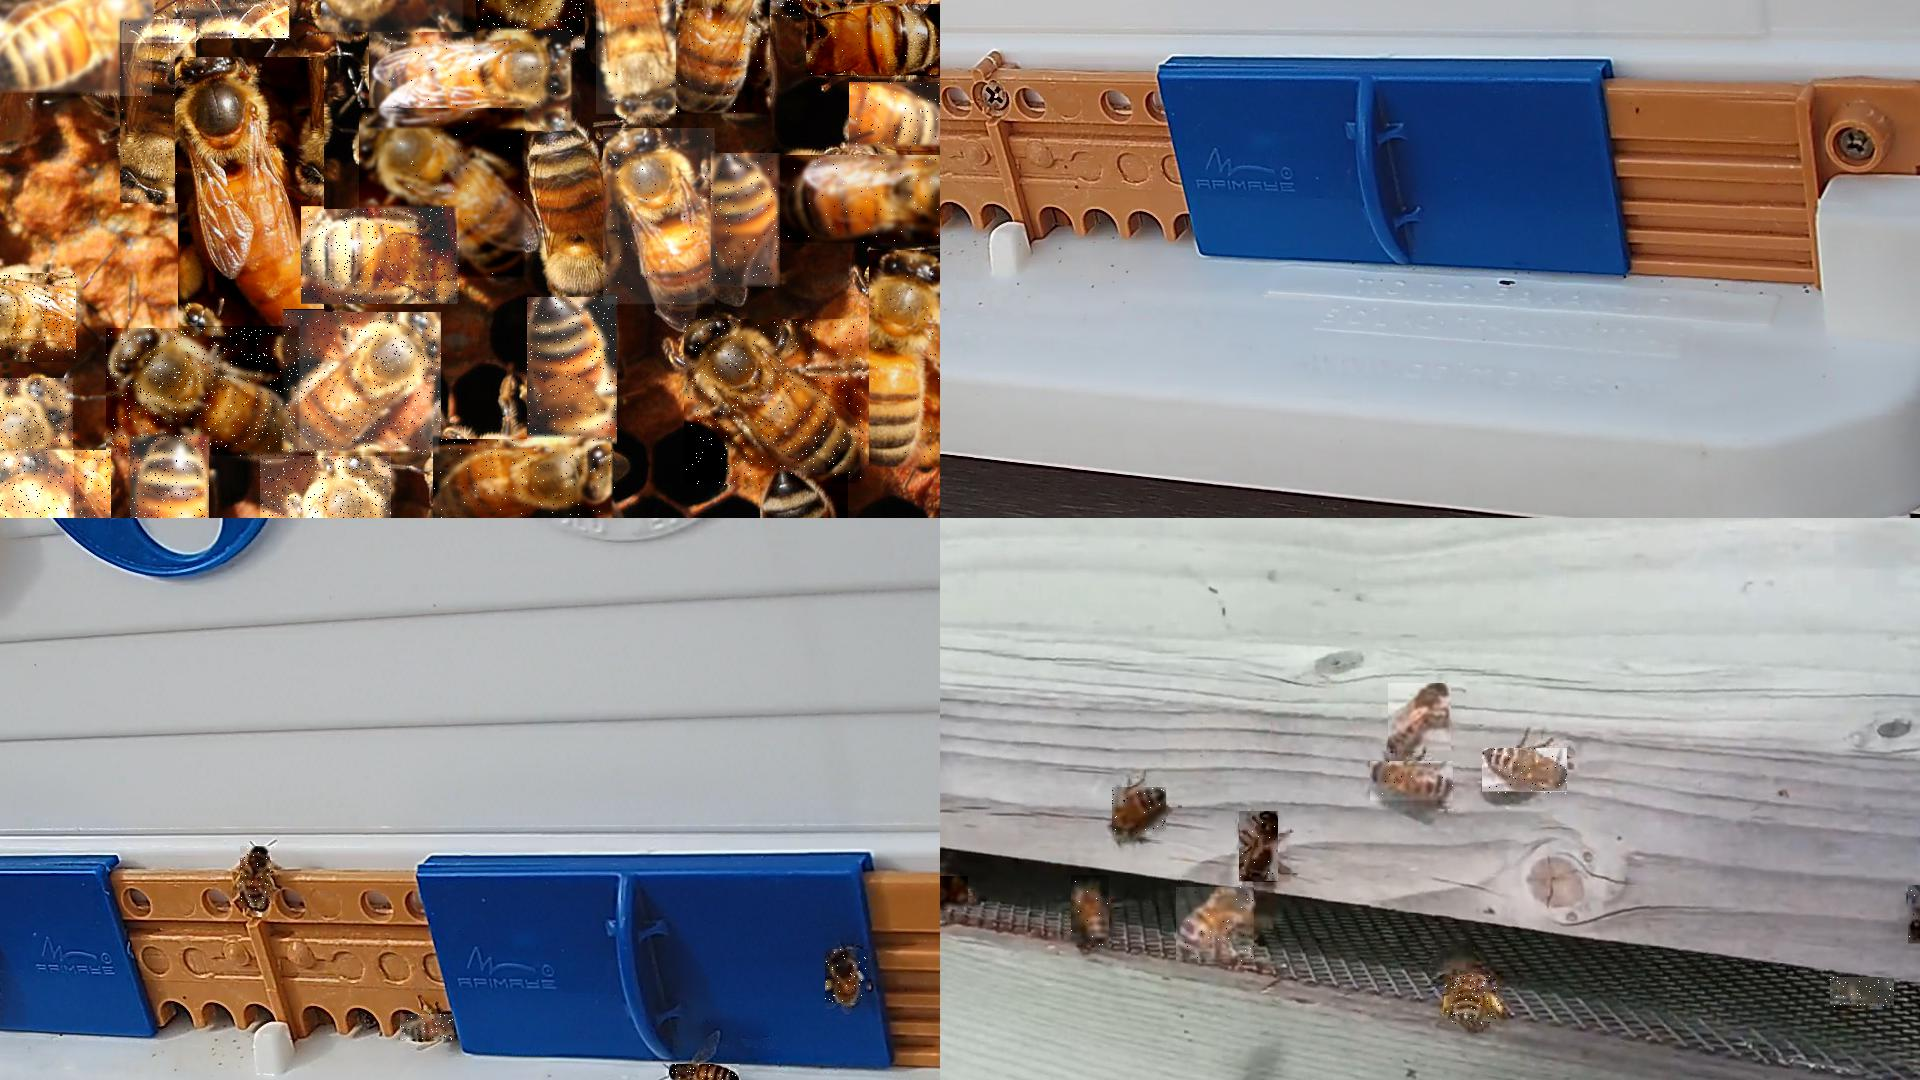bee: (684, 319, 865, 487), (360, 108, 527, 281), (105, 328, 301, 459), (284, 313, 442, 456), (369, 32, 576, 132), (603, 129, 716, 307), (302, 208, 462, 305), (869, 251, 939, 469), (0, 0, 156, 96), (121, 22, 200, 204), (433, 439, 617, 517), (781, 156, 939, 245), (527, 298, 618, 447), (676, 0, 771, 117), (0, 378, 75, 517), (806, 4, 939, 78), (712, 154, 783, 290), (596, 0, 678, 116), (84, 0, 294, 44), (260, 456, 393, 517), (0, 450, 113, 517), (0, 273, 78, 364), (131, 438, 211, 517), (849, 82, 939, 150), (1176, 887, 1255, 963), (476, 0, 587, 53), (320, 0, 468, 34), (1389, 683, 1452, 753), (1482, 749, 1568, 796), (760, 475, 852, 517), (1370, 762, 1455, 803), (1240, 812, 1279, 886), (1071, 876, 1110, 948), (1112, 787, 1167, 835), (1830, 978, 1895, 1009), (240, 847, 270, 906), (400, 1015, 455, 1042), (669, 1064, 741, 1079), (940, 876, 969, 910)
pollenbee: (1445, 976, 1501, 1026), (825, 949, 872, 1004)
queen: (178, 58, 326, 340)
